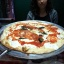pizza: (2, 20, 64, 53)
